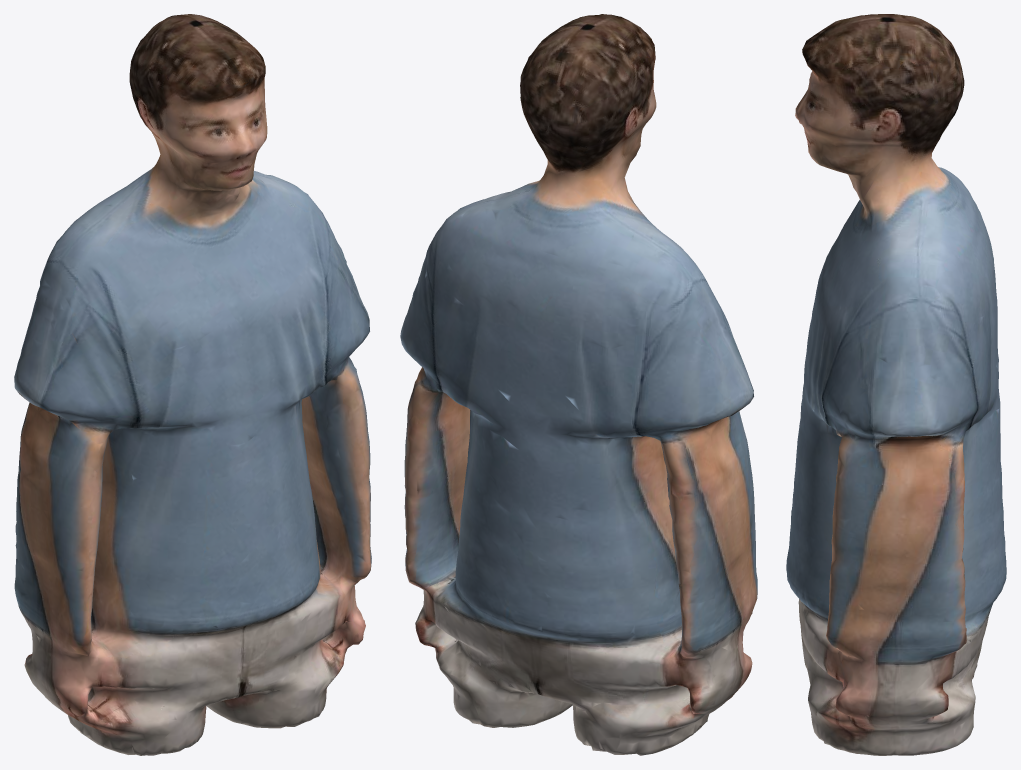
Rendered from sky-model.glb.
3 renders of one model, left to right at view 1: azimuth 30°, elevation 25°; view 2: azimuth 150°, elevation 25°; view 3: azimuth 270°, elevation 25°, orthographic.
Parts seen in each view (by area): view 1: geometry_0; view 2: geometry_0; view 3: geometry_0.
Part boxes in pixels (x1,y1,x2,y2): geometry_0: (14, 14, 371, 755); geometry_0: (400, 14, 757, 755); geometry_0: (786, 14, 1006, 755).
Size of the model in its own units: 0.4728 by 0.9344 by 0.2724.
Materials: 1 (1 with a texture image).
